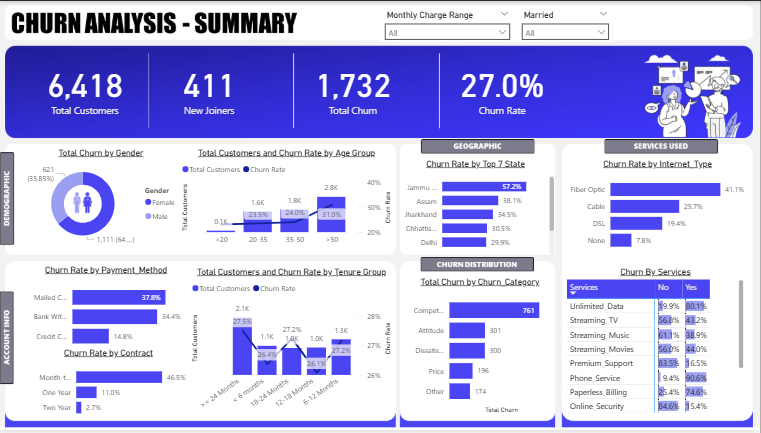

The page's visual inventory and layout, read from the dashboard file:
{"tool":"powerbi","page":{"name":"Summary","canvas":[1280,720],"ordinal":0},"visuals":[{"type":"card","fields":{"Values":["Tbl_measures.Total Customers"]},"box":[42,82.3,208.3,127.7],"z":0},{"type":"card","fields":{"Values":["Tbl_measures.New Joiners"]},"box":[250.3,82.3,208.3,127.7],"z":1000},{"type":"card","fields":{"Values":["Tbl_measures.Total Churn"]},"box":[492.2,82.3,208.3,127.7],"z":2000},{"type":"card","fields":{"Values":["Tbl_measures.Churn Rate"]},"box":[742.5,82.3,208.3,127.7],"z":3000},{"type":"donutChart","fields":{"Category":["prod_Churn.Gender"],"Y":["Tbl_measures.Total Churn"]},"box":[33.6,246.9,278.8,171.3],"z":4000},{"type":"lineStackedColumnComboChart","fields":{"Category":["mapping_AgeGrp.Age Group"],"Y":["Tbl_measures.Total Customers"],"Y2":["Tbl_measures.Churn Rate"]},"box":[304,246.9,361.2,171.3],"z":5000},{"type":"clusteredBarChart","fields":{"Category":["prod_Churn.Payment_Method"],"Y":["Tbl_measures.Churn Rate"]},"box":[42,443.5,278.8,151.2],"z":6000},{"type":"clusteredBarChart","fields":{"Category":["prod_Churn.Contract"],"Y":["Tbl_measures.Churn Rate"]},"box":[50.4,582.9,270.4,126],"z":7000},{"type":"lineStackedColumnComboChart","fields":{"Category":["mapping_TenurGrp.Tenure Group"],"Y":["Tbl_measures.Total Customers"],"Y2":["Tbl_measures.Churn Rate"]},"box":[320.8,446.8,344.4,250.3],"z":8000},{"type":"clusteredBarChart","title":"Churn Rate by Top 7  State","fields":{"Category":["prod_Churn.State"],"Y":["Tbl_measures.Churn Rate"]},"box":[665.2,265.4,273.8,164.6],"z":9000},{"type":"clusteredBarChart","fields":{"Category":["prod_Churn.Churn_Category"],"Y":["Tbl_measures.Total Churn"]},"box":[680.3,463.6,258.7,233.5],"z":10000},{"type":"clusteredBarChart","fields":{"Category":["prod_Churn.Internet_Type"],"Y":["Tbl_measures.Churn Rate"]},"box":[950.8,265.4,314.1,164.6],"z":11000},{"type":"image","box":[79,310.8,127.7,55.4],"z":11500},{"type":"pivotTable","title":"Churn By Services","fields":{"Rows":["prod_Services.Services"],"Columns":["prod_Services.Status"],"Values":["Sum(prod_Services.Churn Status)"]},"box":[950.8,446.8,307.4,250.3],"z":12000},{"type":"slicer","fields":{"Values":["prod_Services.Monthly Charge Status"]},"box":[640,10.1,230.1,58.8],"z":14000},{"type":"slicer","fields":{"Values":["prod_Services.Married"]},"box":[870.1,10.1,166.3,58.8],"z":15000}]}

Visuals, with their boxes in screenshot pixels (x1, y1, x2, y2), scaled from the page's 1280x720 canvas onto the 761x433 screenshot:
card - Tbl_measures.Total Customers: <bbox>25, 49, 149, 126</bbox>
card - Tbl_measures.New Joiners: <bbox>149, 49, 273, 126</bbox>
card - Tbl_measures.Total Churn: <bbox>293, 49, 416, 126</bbox>
card - Tbl_measures.Churn Rate: <bbox>441, 49, 565, 126</bbox>
donutChart - prod_Churn.Gender x Tbl_measures.Total Churn: <bbox>20, 148, 186, 252</bbox>
lineStackedColumnComboChart - mapping_AgeGrp.Age Group x Tbl_measures.Total Customers: <bbox>181, 148, 395, 252</bbox>
clusteredBarChart - prod_Churn.Payment_Method x Tbl_measures.Churn Rate: <bbox>25, 267, 191, 358</bbox>
clusteredBarChart - prod_Churn.Contract x Tbl_measures.Churn Rate: <bbox>30, 351, 191, 426</bbox>
lineStackedColumnComboChart - mapping_TenurGrp.Tenure Group x Tbl_measures.Total Customers: <bbox>191, 269, 395, 419</bbox>
"Churn Rate by Top 7  State" clusteredBarChart: <bbox>395, 160, 558, 259</bbox>
clusteredBarChart - prod_Churn.Churn_Category x Tbl_measures.Total Churn: <bbox>404, 279, 558, 419</bbox>
clusteredBarChart - prod_Churn.Internet_Type x Tbl_measures.Churn Rate: <bbox>565, 160, 752, 259</bbox>
image: <bbox>47, 187, 123, 220</bbox>
"Churn By Services" pivotTable: <bbox>565, 269, 748, 419</bbox>
slicer - prod_Services.Monthly Charge Status: <bbox>380, 6, 517, 41</bbox>
slicer - prod_Services.Married: <bbox>517, 6, 616, 41</bbox>
